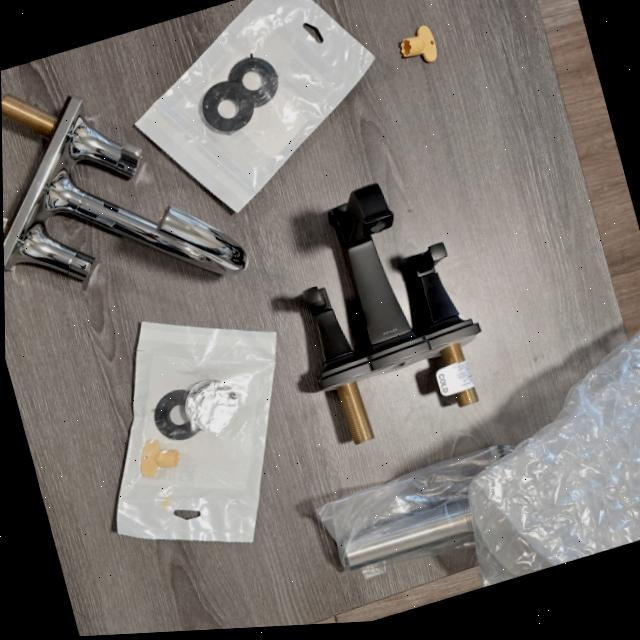10: (1, 94, 247, 279)
11o: (317, 445, 512, 578)
12: (116, 322, 276, 541)
13: (135, 0, 374, 211)
14: (399, 25, 436, 62)
9: (302, 183, 480, 443)
